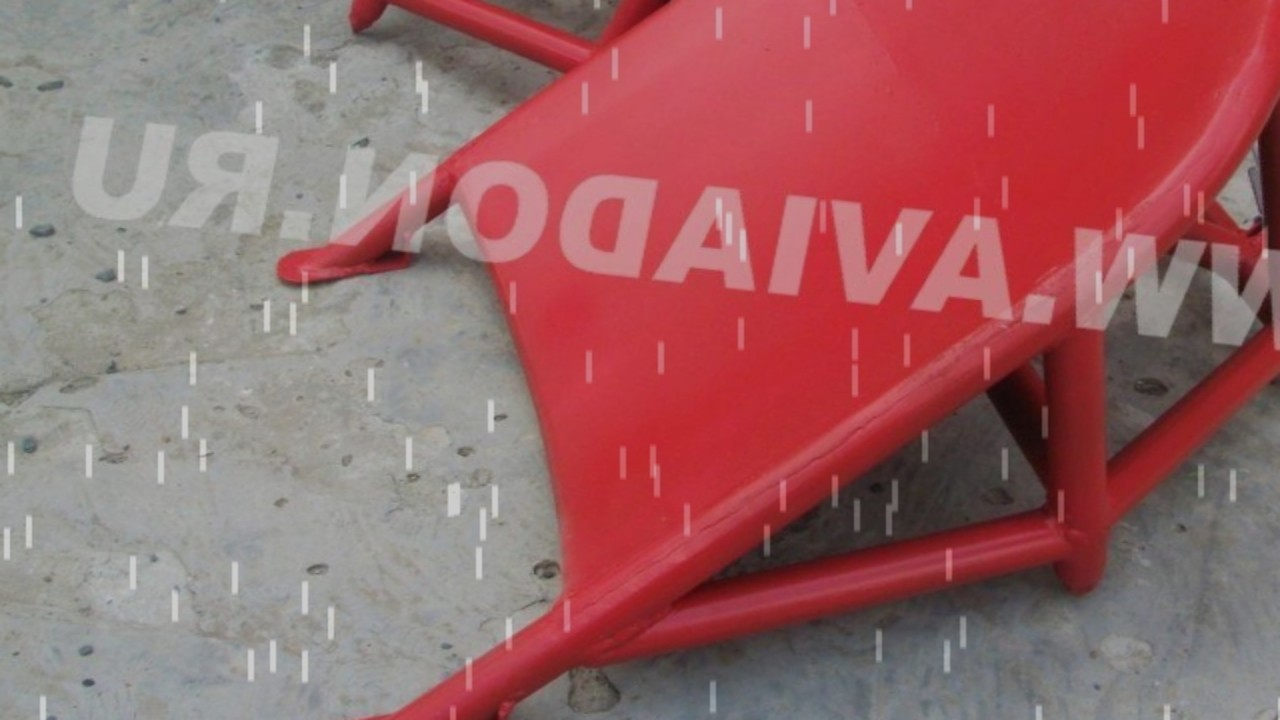chock: (176, 0, 1280, 720)
